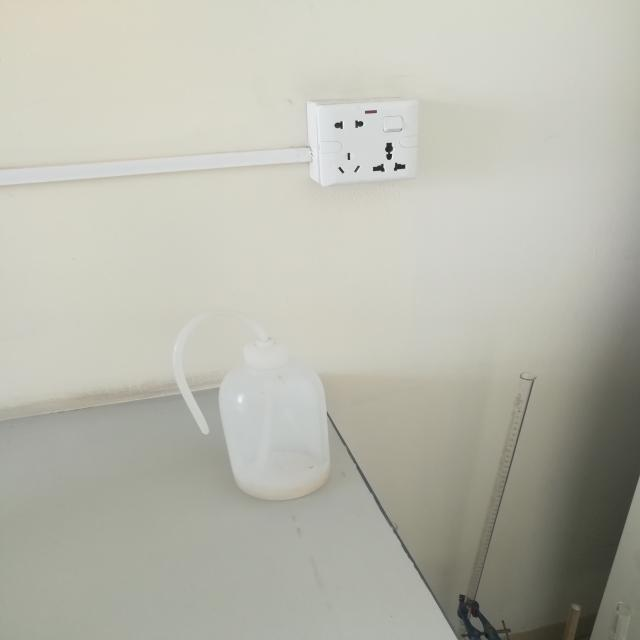Wash_Bottle: (128, 286, 378, 524)
